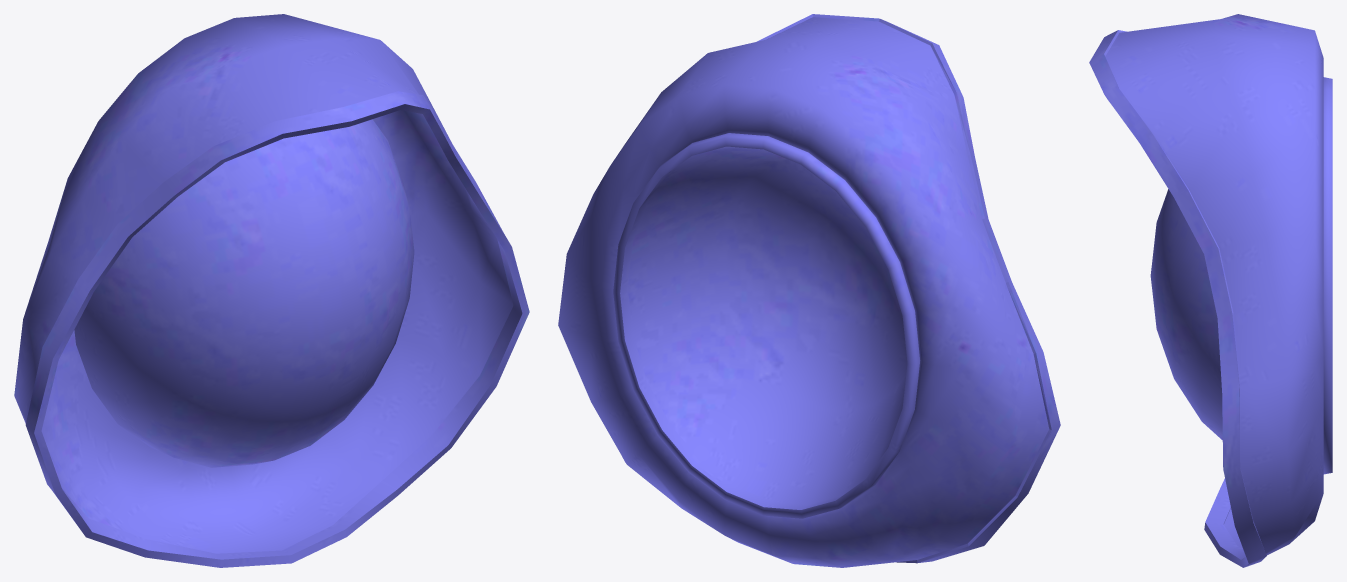
Rendered from Headwear20.glb.
3 renders of one model, left to right at view 1: azimuth 30°, elevation 25°; view 2: azimuth 150°, elevation 25°; view 3: azimuth 270°, elevation 25°, orthographic. The views are drawn at different scales.
Parts seen in each view (by area): view 1: Headwear20; view 2: Headwear20; view 3: Headwear20.
Part boxes in pixels (x1,y1,x2,y2): Headwear20: (14,14,529,567); Headwear20: (558,14,1060,567); Headwear20: (1089,14,1332,567).
Bounding box in the file's own units: 2.89 × 2.88 × 1.28.
1 material, 1 textured.
